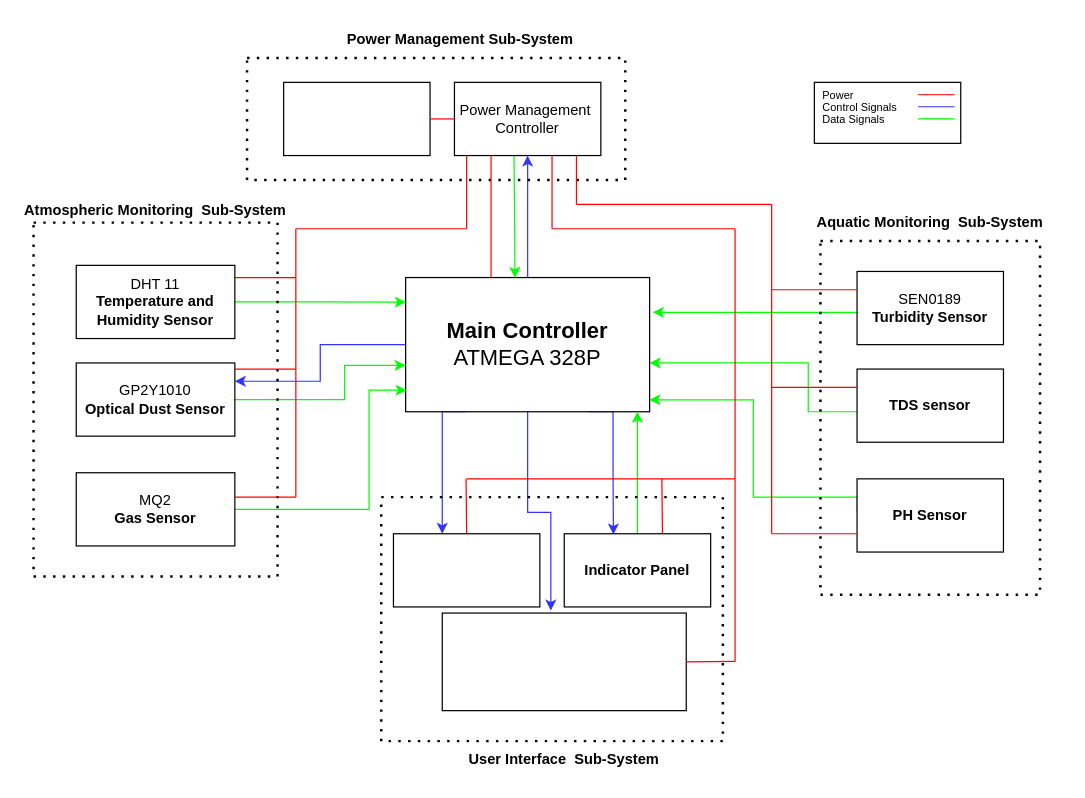
Image size: 1085x798. Some labels were removed from this diagram. The shapes that lost their labels are listed below. From the top down, each one's box as (x1, y1, x2, y2) in pixels, then its label:
(282, 81, 430, 156): Li-ion Batterys
(392, 533, 540, 607): Buzzer
(441, 612, 686, 711): Display
